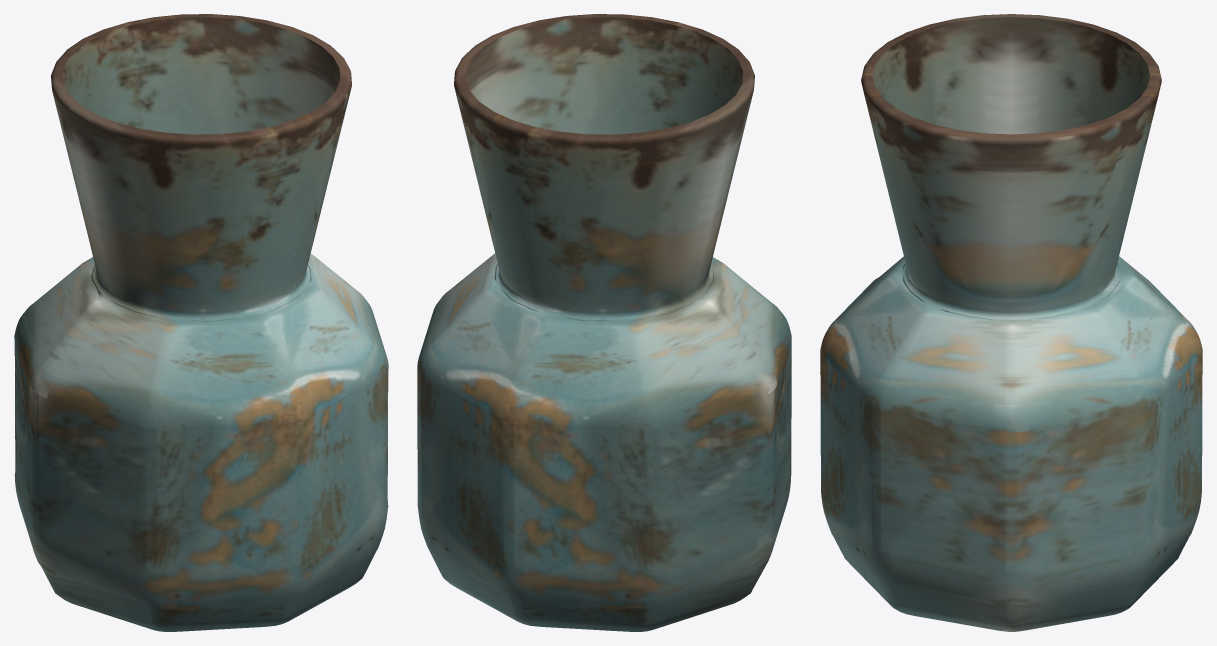
The model's file is vase_w_bump.glb.
3 renders of one model, left to right at view 1: azimuth 30°, elevation 25°; view 2: azimuth 150°, elevation 25°; view 3: azimuth 270°, elevation 25°, orthographic.
Visible parts, largest first — view 1: Circle; view 2: Circle; view 3: Circle.
Part boxes in pixels (<box>): Circle: <box>14,14,388,631</box>; Circle: <box>417,14,791,631</box>; Circle: <box>820,14,1202,631</box>.
Size of the model in its own units: 1.95 by 2.79 by 1.95.
Materials: 1 (1 with a texture image).
